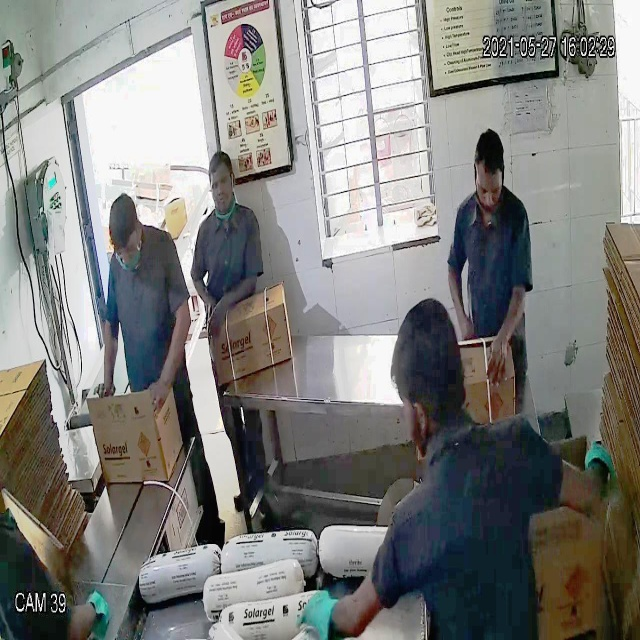Sin_gafas: (469, 177, 510, 204), (208, 171, 237, 199)
